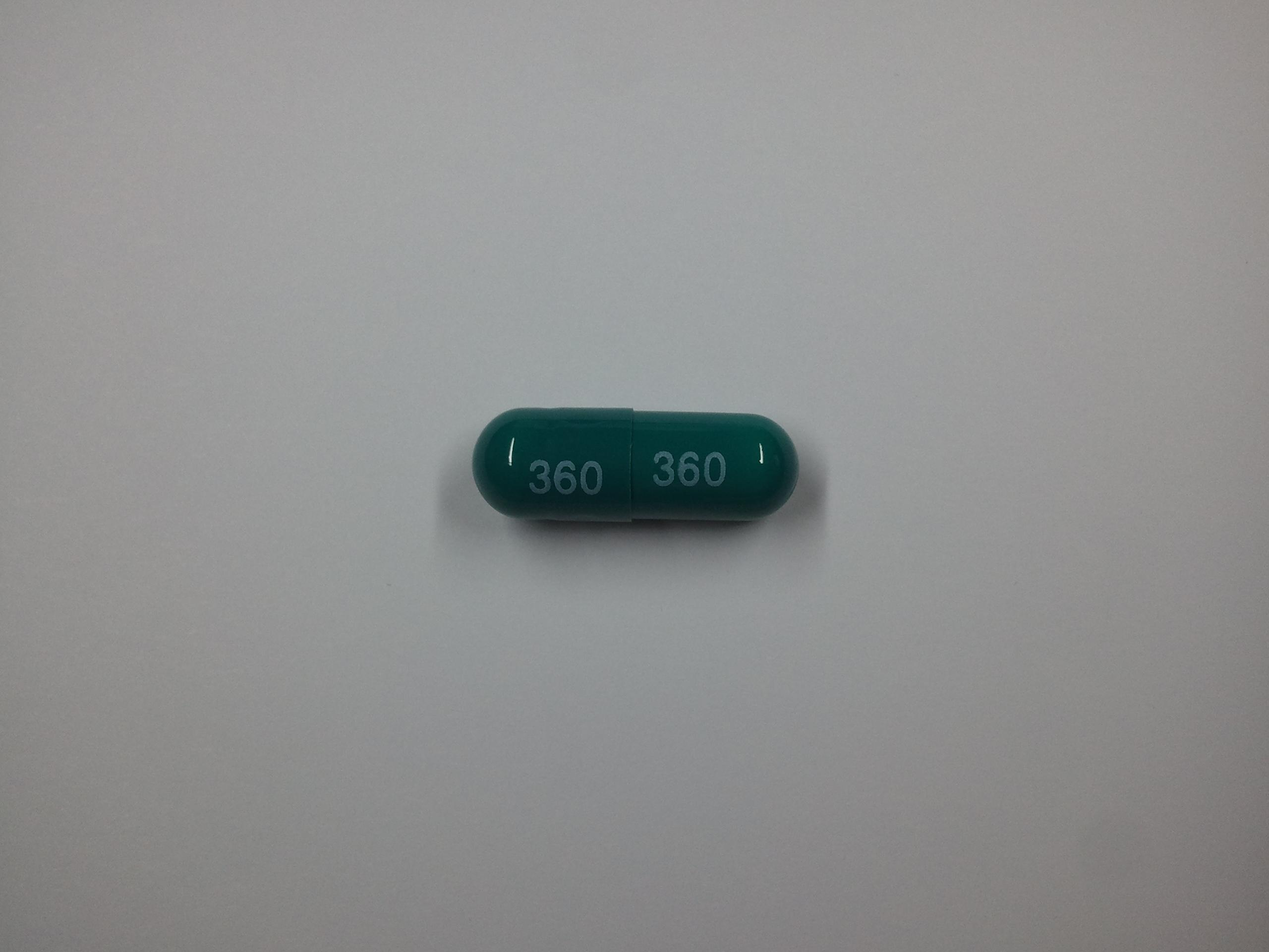Pill: (458, 415, 808, 557)
